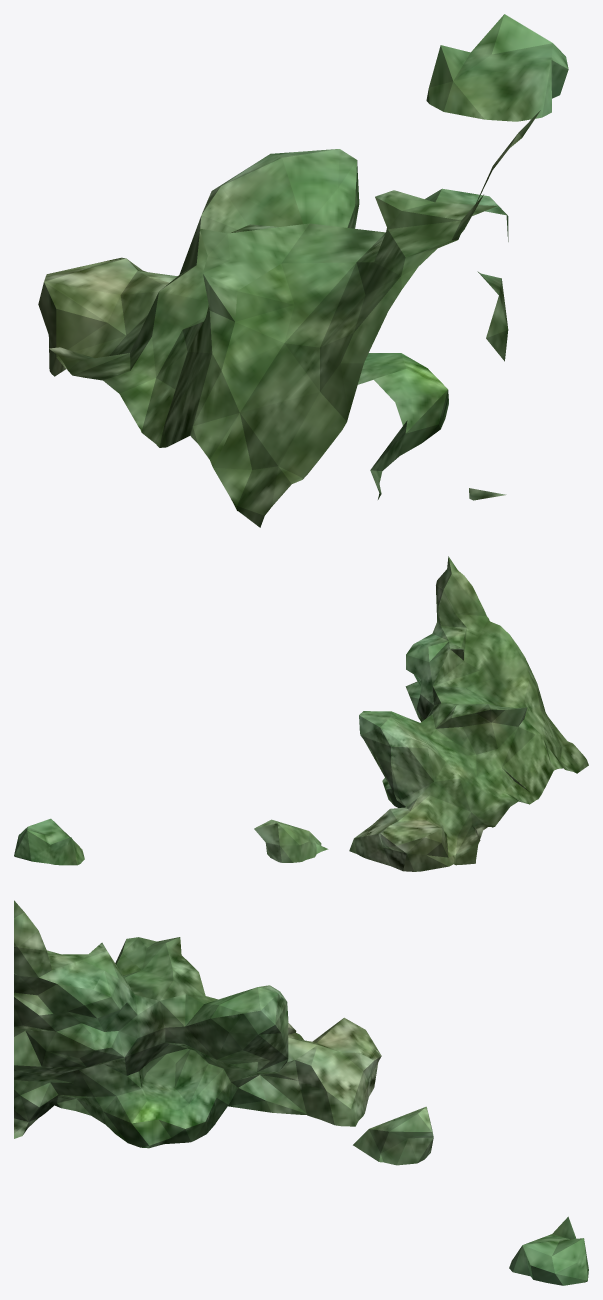
3 views of the same model, one above another, from view 1: azimuth 30°, elevation 25°; view 2: azimuth 150°, elevation 25°; view 3: azimuth 270°, elevation 25° (orthographic). The views are drawn at different scales.
Bounding box in the file's own units: 2.21 × 1.11 × 2.35.
Materials: 1 (1 with a texture image).
